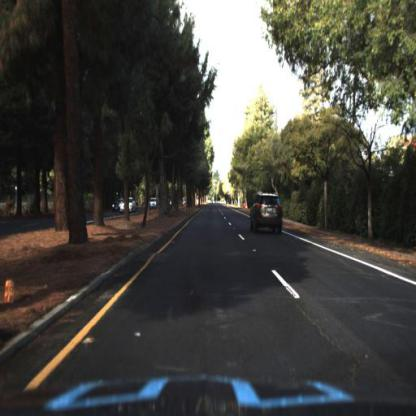car: (251, 191, 285, 231), (126, 195, 138, 216)
